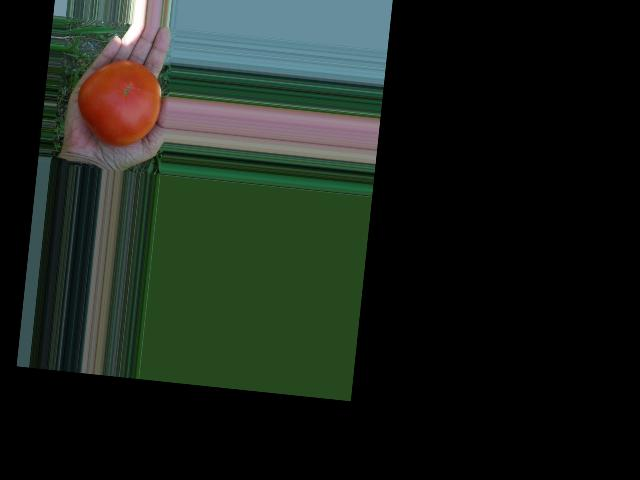tomato: (73, 55, 164, 149)
